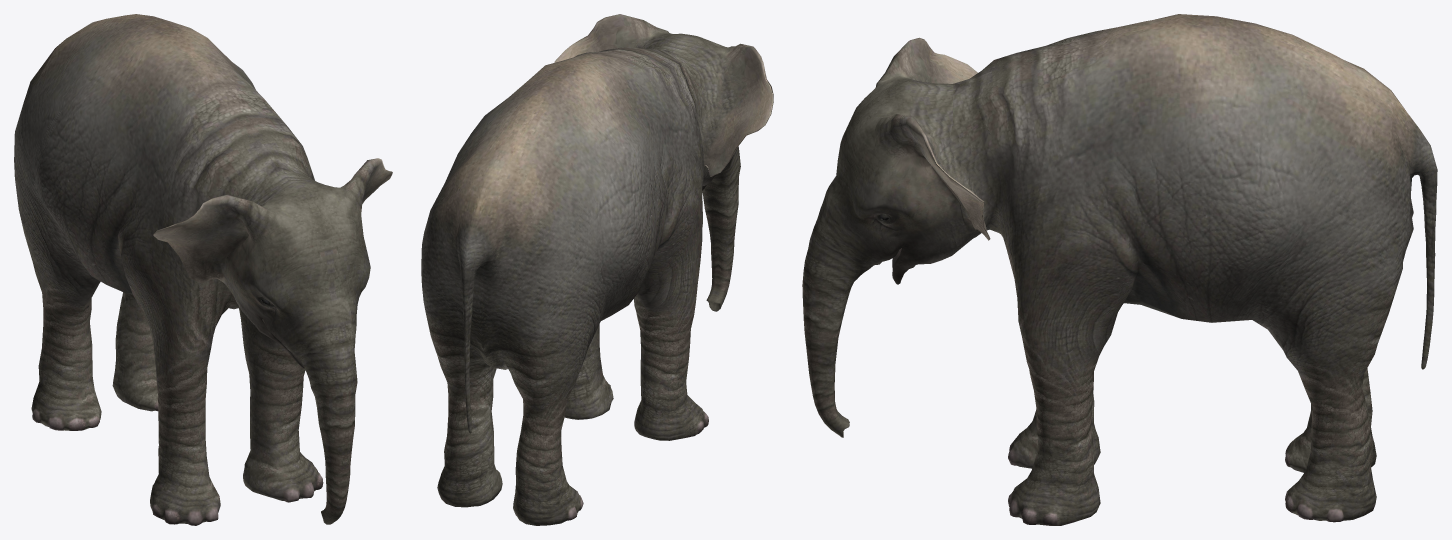
The model's file is ElephantCalf_fbx.fbx.
The picture shows the model from 3 angles, left to right: view 1: azimuth 30°, elevation 25°; view 2: azimuth 150°, elevation 25°; view 3: azimuth 270°, elevation 25°; orthographic projection. The views are drawn at different scales.
Visible parts, largest first — view 1: Body; view 2: Body; view 3: Body.
Boxes of the visible parts, left/top/right/bottom form: Body: left=14, top=14, right=392, bottom=525; Body: left=421, top=14, right=773, bottom=525; Body: left=802, top=14, right=1437, bottom=525.
Size of the model in its own units: 4.03 by 6.98 by 8.63.
